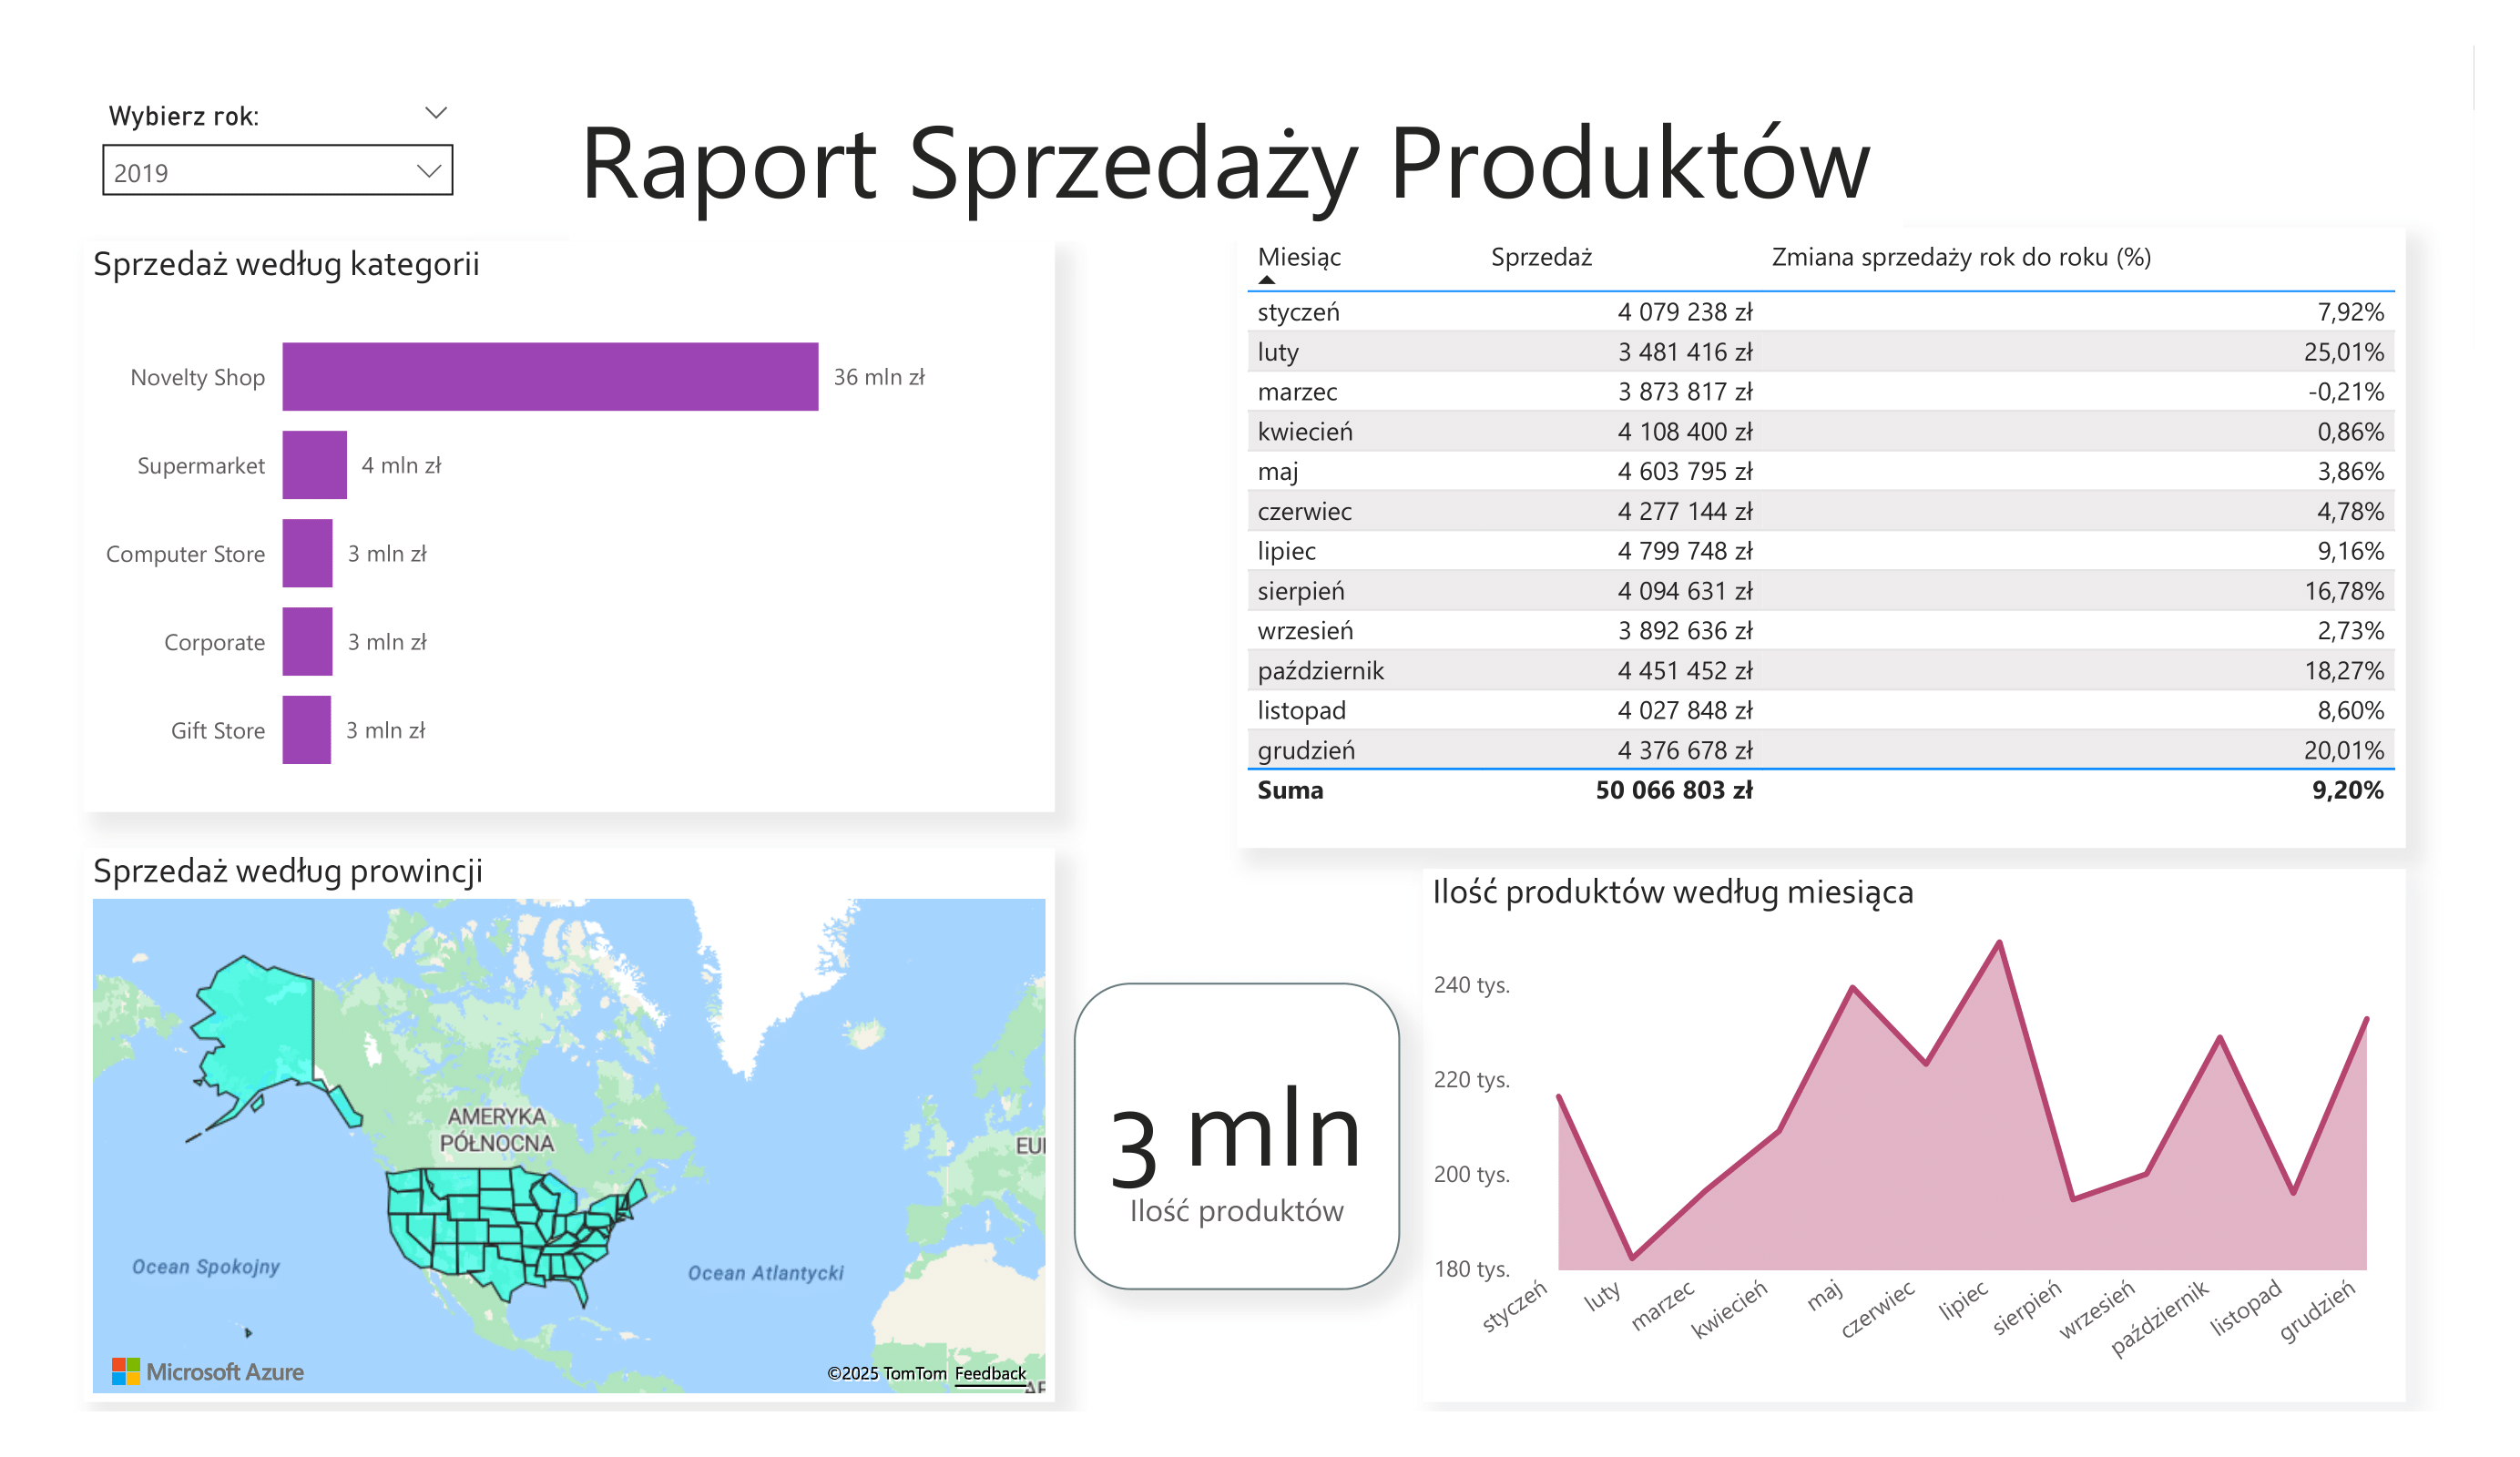

This screenshot's page, from the dashboard's own definition file:
{"tool":"powerbi","page":{"name":"Raport","canvas":[1280,720],"ordinal":0},"visuals":[{"type":"clusteredBarChart","title":"Sprzedaż według kategorii","fields":{"Category":["MasterCustomer.CustomerCategoryName"],"Y":["Sum(InvoiceData.Sales)"]},"box":[19.9,103.2,512.5,301],"z":0},{"type":"slicer","fields":{"Values":["InvoiceData.Date.Odmiana.Hierarchia dat.Rok"]},"box":[19.9,23.6,205.3,75.9],"z":1000},{"type":"tableEx","fields":{"Values":["InvoiceData.Date.Odmiana.Hierarchia dat.Miesiąc","Sum(InvoiceData.Sales)","InvoiceData.Suma elementów Sales% między latami"]},"box":[628.2,95.8,615.8,327.2],"z":2000},{"type":"azureMap","title":"Sprzedaż według prowincji","fields":{"Category":["MasterCustomer.Province"]},"box":[19.9,422.9,512.5,292.3],"z":3000},{"type":"lineChart","title":"Ilość produktów według miesiąca","fields":{"Y":["Sum(InvoiceData.Quantity)"],"Category":["InvoiceData.Date.Odmiana.Hierarchia dat.Miesiąc"]},"box":[726.5,434.1,517.5,281.1],"z":4000},{"type":"textbox","box":[276.2,17.4,702.8,85.8],"z":5000},{"type":"card","fields":{"Values":["Sum(InvoiceData.Quantity)"]},"box":[542.4,493.9,171.7,161.7],"z":6000}]}

Visuals, with their boxes in screenshot pixels (x1, y1, x2, y2):
"Sprzedaż według kategorii" clusteredBarChart: 83/241/1056/812
slicer - InvoiceData.Date.Odmiana.Hierarchia dat.Rok: 83/90/473/234
tableEx - InvoiceData.Date.Odmiana.Hierarchia dat.Miesiąc x Sum(InvoiceData.Sales): 1238/228/2406/848
"Sprzedaż według prowincji" azureMap: 83/848/1056/1402
"Ilość produktów według miesiąca" lineChart: 1424/869/2406/1402
textbox: 569/78/1903/241
card - Sum(InvoiceData.Quantity): 1075/983/1401/1289
